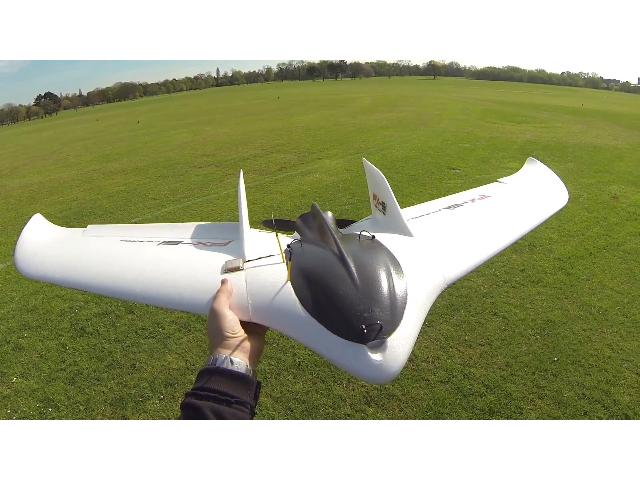Anti-Drone: (12, 145, 576, 394)
